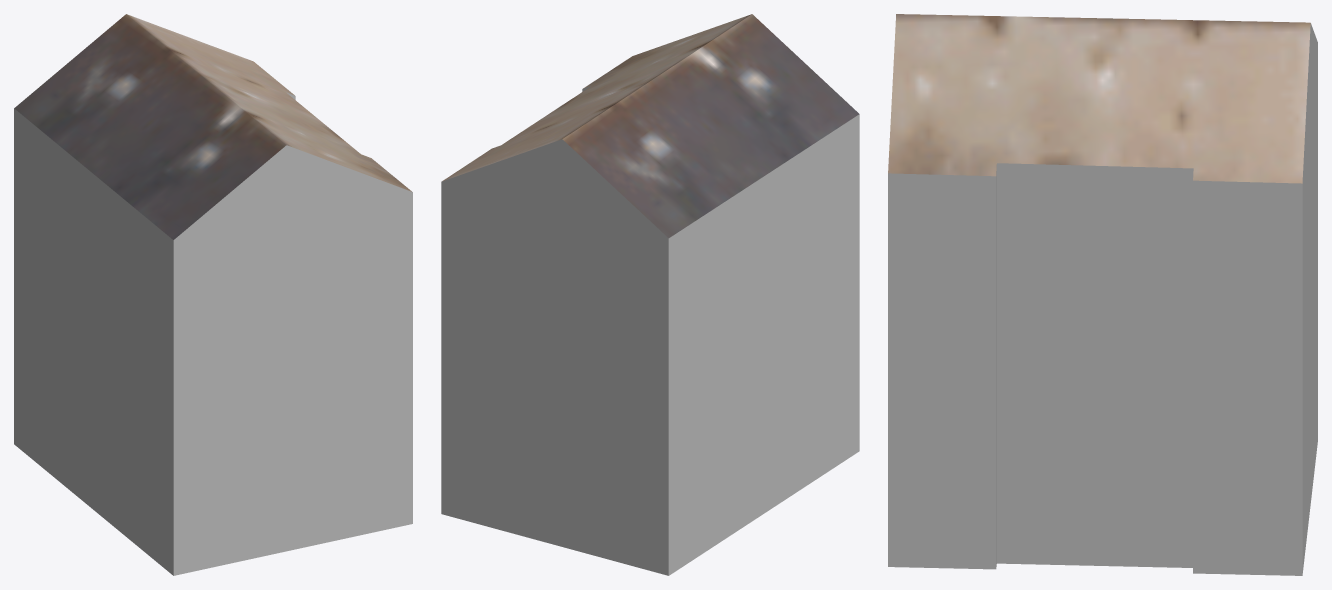
Rendered from DEBW_0010007Tx6F.gltf.
3 renders of one model, left to right at view 1: azimuth 30°, elevation 25°; view 2: azimuth 150°, elevation 25°; view 3: azimuth 270°, elevation 25°, orthographic. The views are drawn at different scales.
Visible parts, largest first — view 1: Z_UP; view 2: Z_UP; view 3: Z_UP.
Boxes of the visible parts, x1,y1,x2,y2 form: Z_UP: (14,14,412,575); Z_UP: (441,14,859,575); Z_UP: (888,14,1317,575).
Bounding box in the file's own units: 10.56 × 16.51 × 13.35.
Materials: 2 (1 with a texture image).
